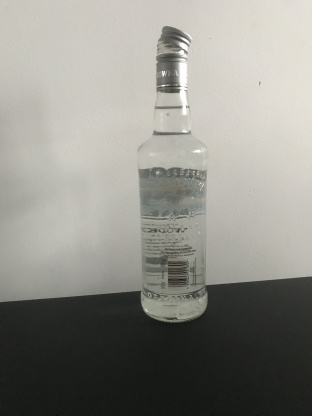nakretka: (154, 23, 194, 93)
